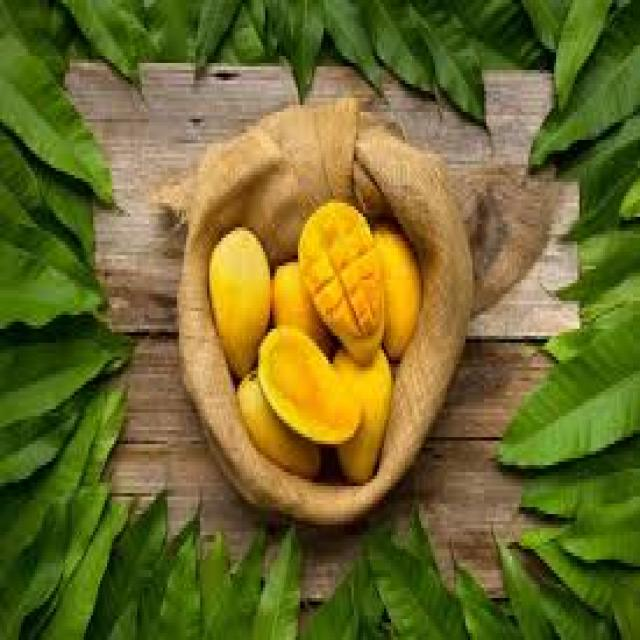mango: (207, 227, 272, 388)
